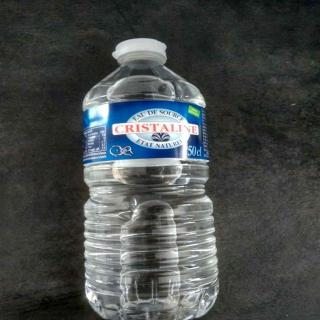Anorganik: (74, 33, 235, 318)
